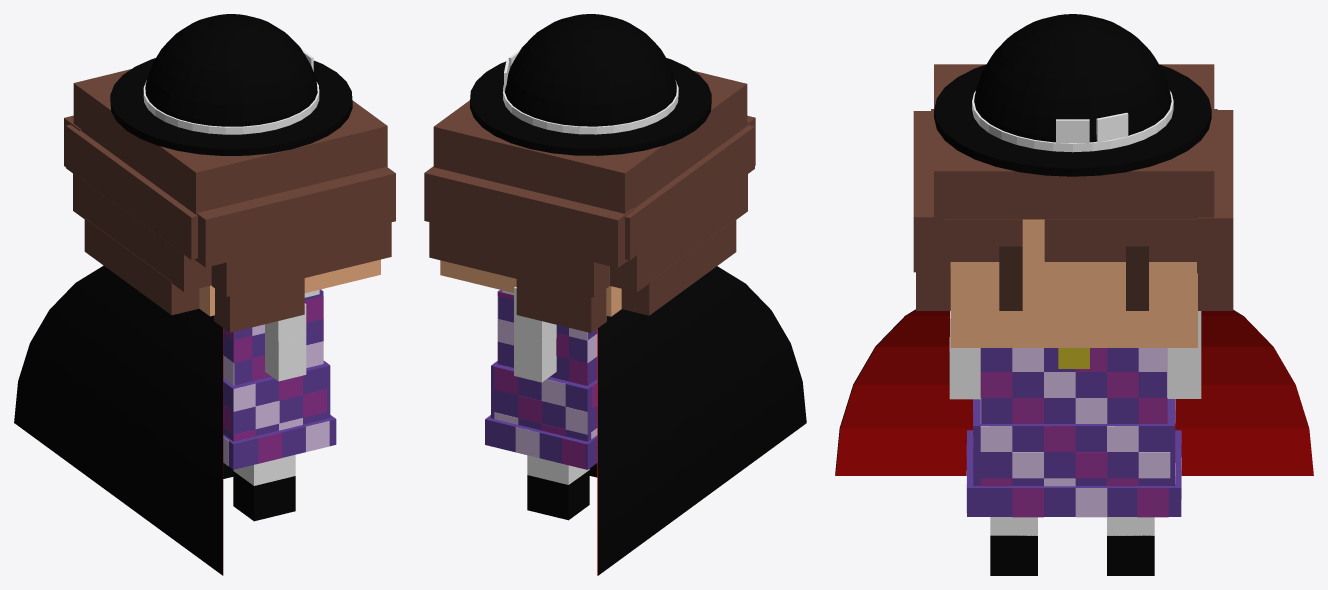
File: sumireko.glb
3 renders of one model, left to right at view 1: azimuth 30°, elevation 25°; view 2: azimuth 150°, elevation 25°; view 3: azimuth 270°, elevation 25°, orthographic. The views are drawn at different scales.
Parts seen in each view (by area): view 1: Cube.014; view 2: Cube.014; view 3: Cube.014.
Part boxes in pixels (x1,y1,x2,y2): Cube.014: [14, 14, 395, 575]; Cube.014: [424, 14, 806, 575]; Cube.014: [835, 14, 1313, 575].
Size of the model in its own units: 2.07 by 4.28 by 3.45.
